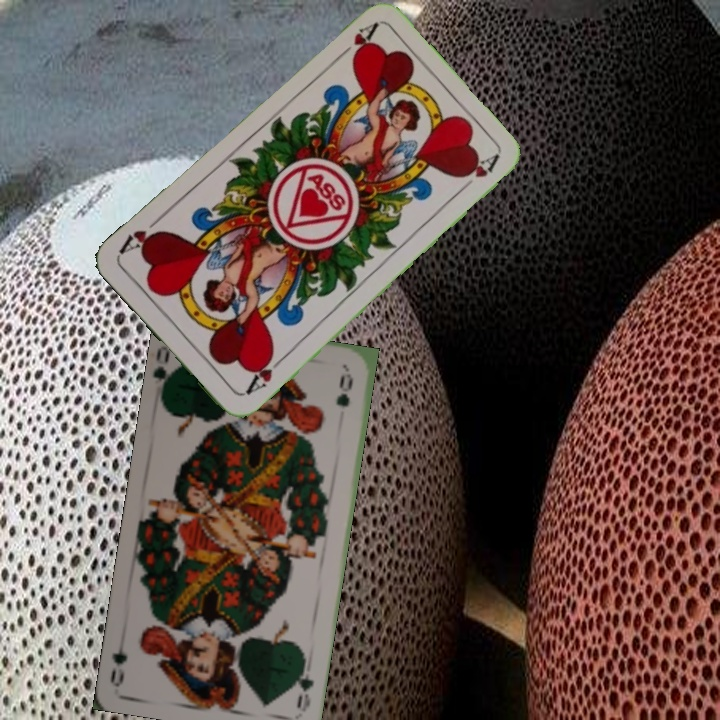GO: (151, 342, 180, 400), (291, 655, 317, 714)
HA: (331, 19, 380, 66), (241, 348, 287, 398)
